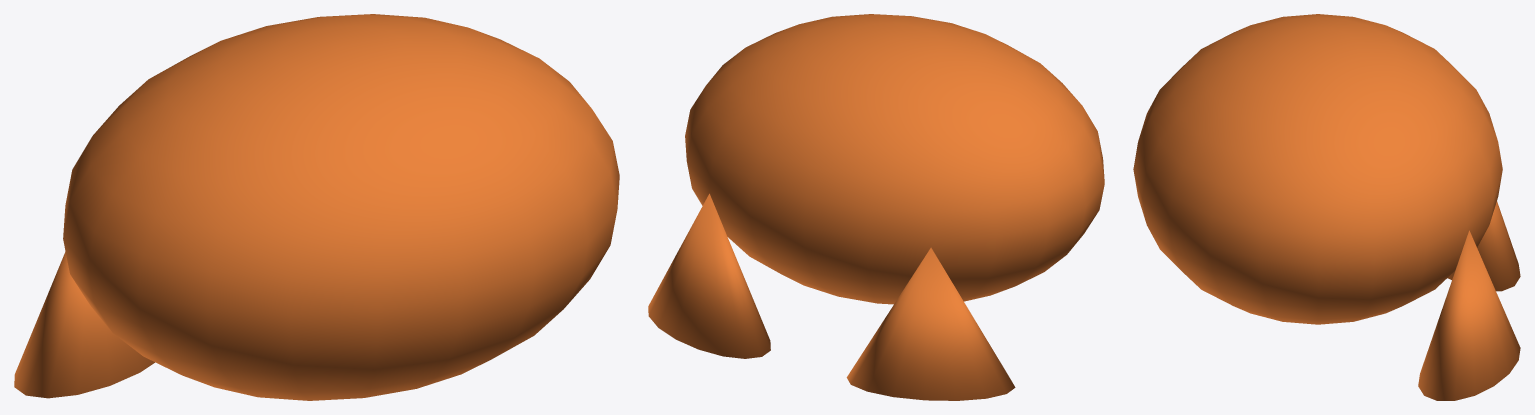
Rendered from charm-kitty.glb.
3 renders of one model, left to right at view 1: azimuth 30°, elevation 25°; view 2: azimuth 150°, elevation 25°; view 3: azimuth 270°, elevation 25°, orthographic. The views are drawn at different scales.
Visible parts, largest first — view 1: Sphere, Cone; view 2: Sphere, Cone, Cone.001; view 3: Sphere, Cone.001, Cone.
Part boxes in pixels (x1,y1,x2,y2): Sphere: (63,14,619,400); Cone: (14,251,154,398); Sphere: (685,14,1104,304); Cone: (846,247,1015,400); Cone.001: (648,193,770,358); Sphere: (1133,14,1502,324); Cone.001: (1418,230,1520,400); Cone: (1447,201,1520,291).
Size of the model in its own units: 0.00828 by 0.00544 by 0.00717.
